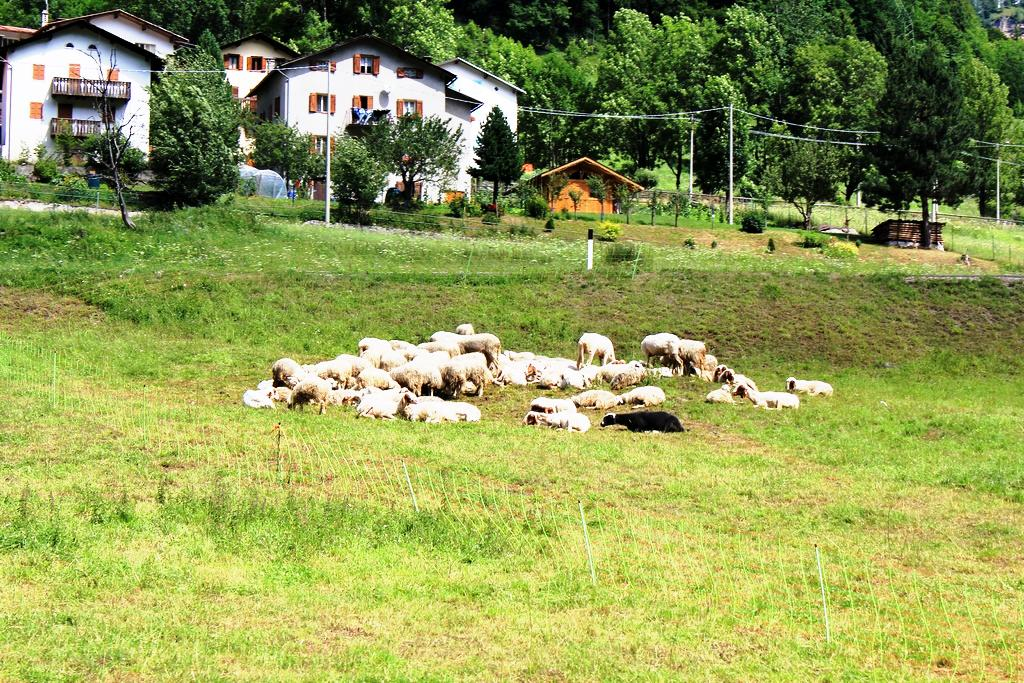Sheep: (433, 358, 493, 398), (281, 376, 331, 416), (453, 332, 504, 370), (392, 360, 447, 393), (359, 392, 418, 421), (355, 364, 402, 393), (313, 360, 354, 391), (272, 355, 305, 389)
